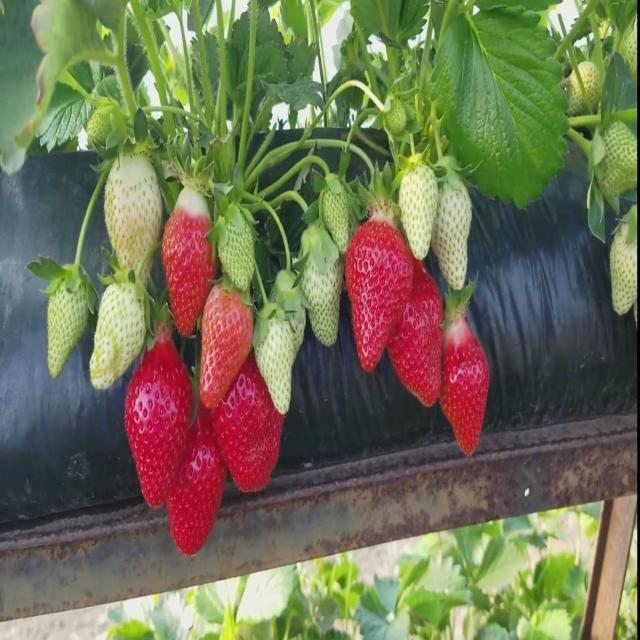ripe: (124, 332, 189, 508), (204, 356, 285, 494), (343, 207, 409, 367), (160, 406, 226, 554), (386, 255, 444, 408), (158, 200, 214, 338), (441, 301, 488, 461)
unripe: (100, 150, 161, 296), (42, 253, 90, 384), (94, 272, 142, 388), (296, 237, 341, 347), (429, 178, 474, 288), (398, 158, 439, 258), (254, 306, 294, 408), (607, 211, 640, 317), (595, 124, 640, 199), (270, 272, 306, 362), (566, 64, 608, 118), (321, 178, 348, 250)
